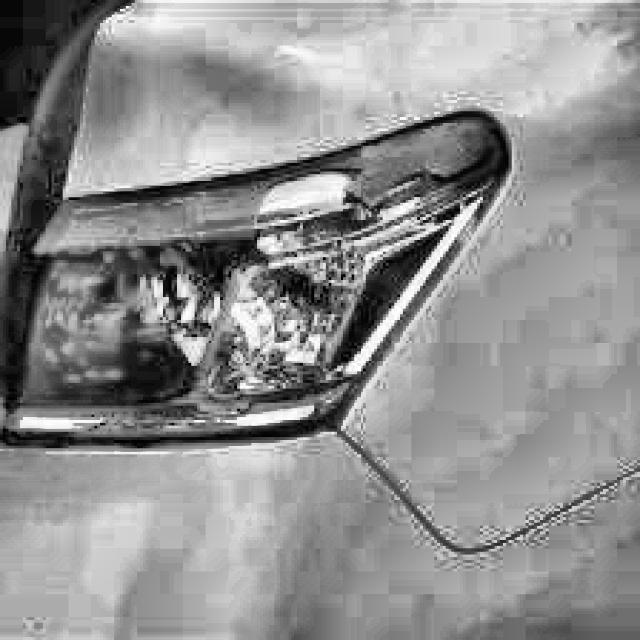tail_lamp: (181, 198, 367, 418)
